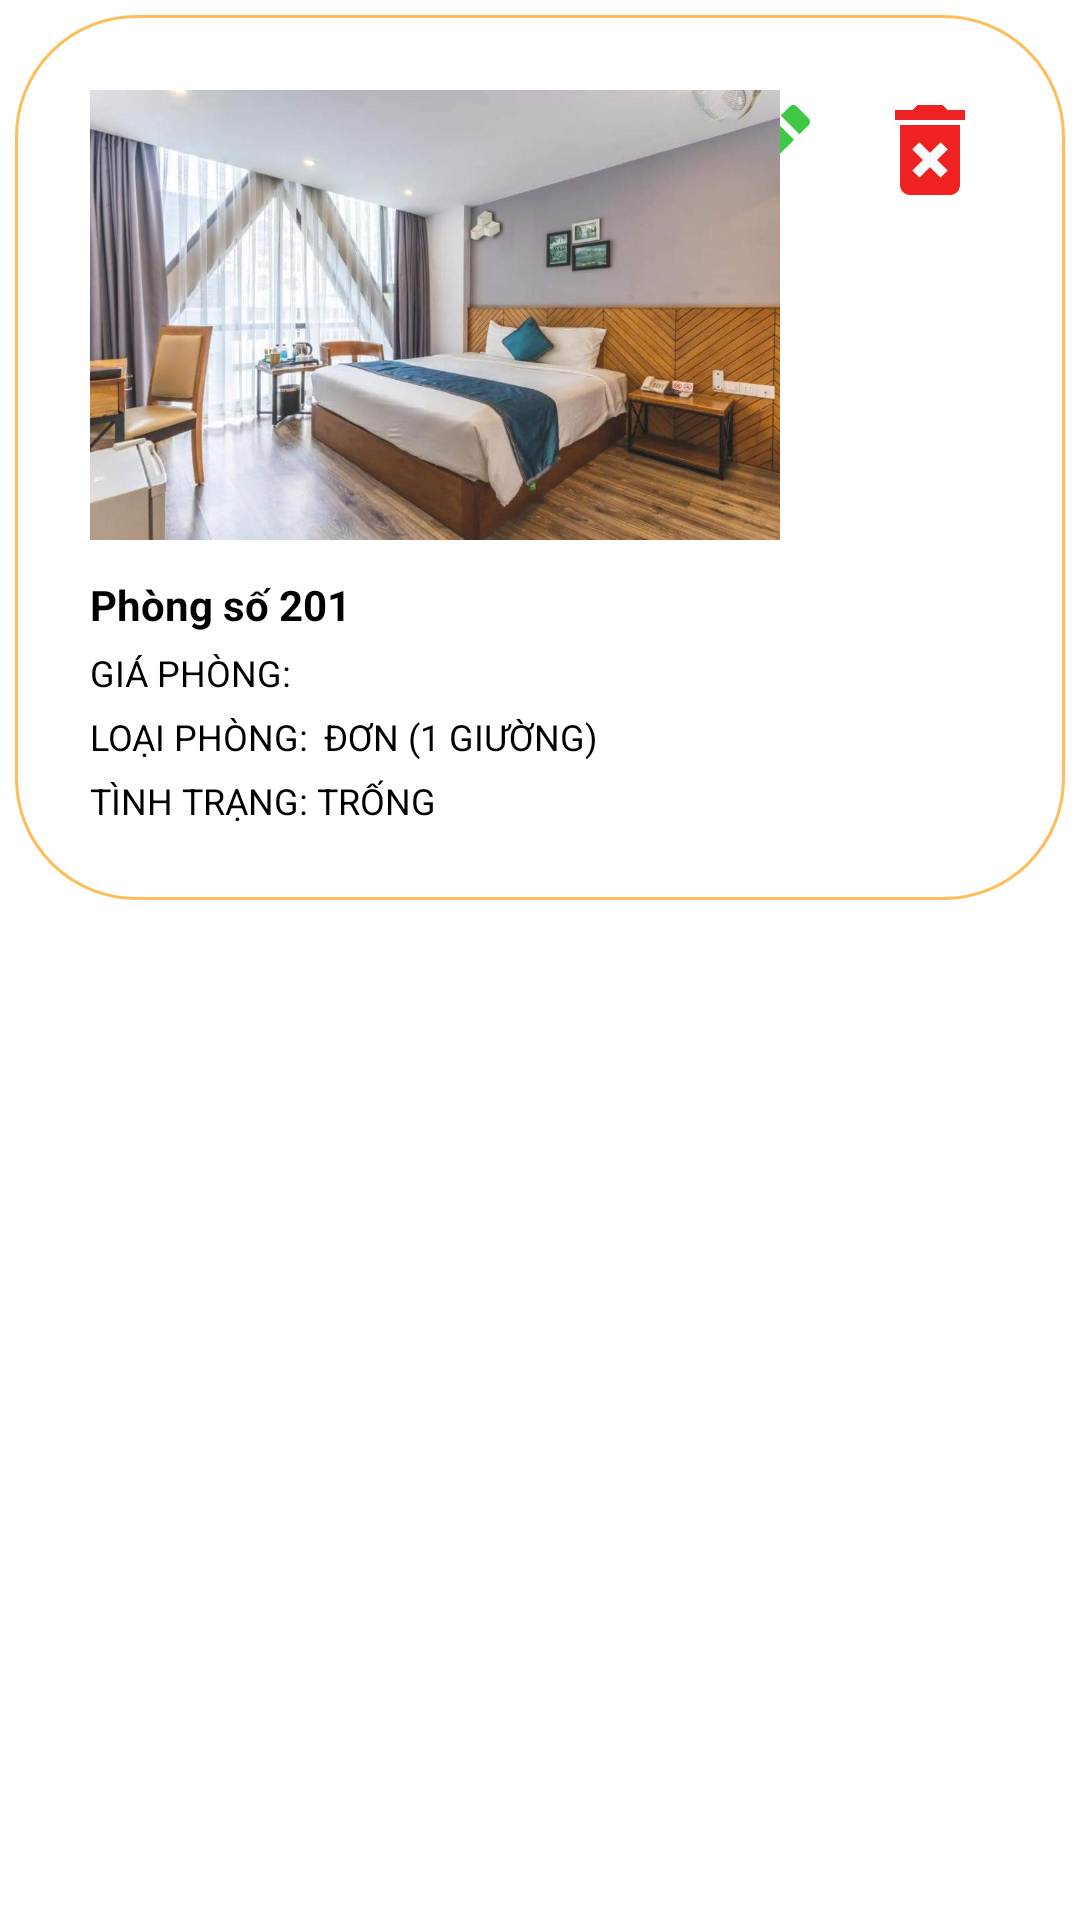

Icon click points for this 1080px x 1920px phone screenshot, format point (x, y):
delete forever: point (930, 150)
